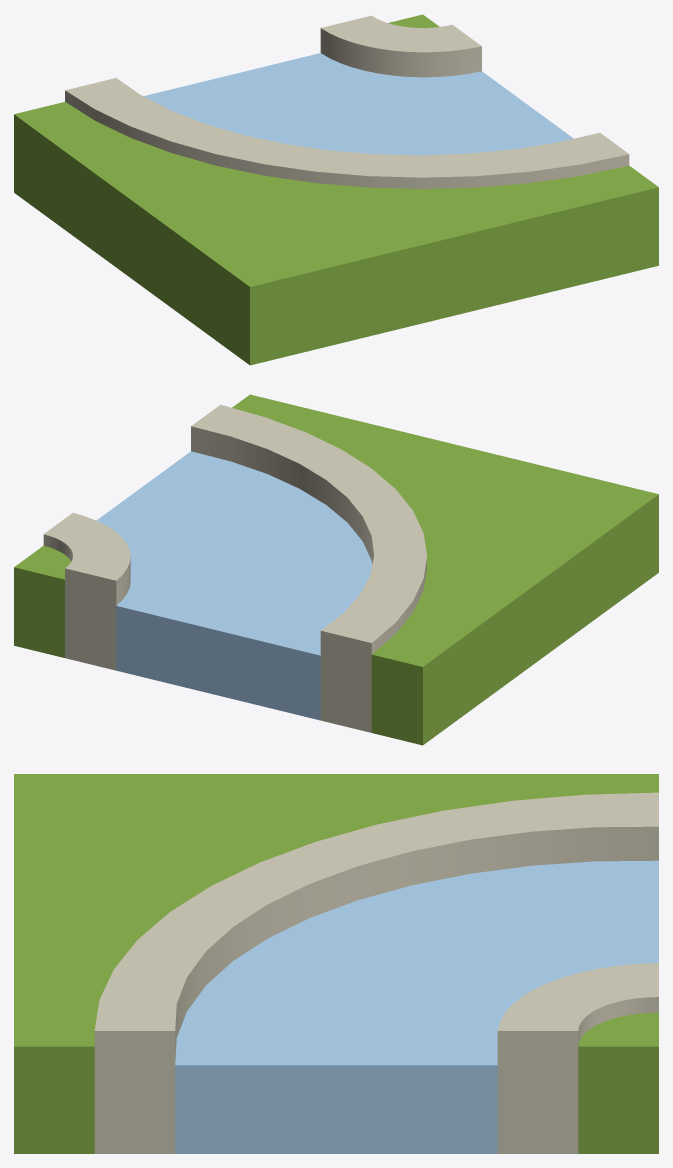
The model's file is roadTile_235.fbx.
3 renders of one model, top to bottom at view 1: azimuth 30°, elevation 25°; view 2: azimuth 150°, elevation 25°; view 3: azimuth 270°, elevation 25°, orthographic. The views are drawn at different scales.
Parts seen in each view (by area): view 1: roadTile_235; view 2: roadTile_235; view 3: roadTile_235.
Part boxes in pixels (x1,y1,x2,y2): roadTile_235: (14, 14, 658, 365); roadTile_235: (14, 394, 658, 745); roadTile_235: (14, 774, 658, 1153).
Bounding box in the file's own units: 118 × 24.8 × 118.
